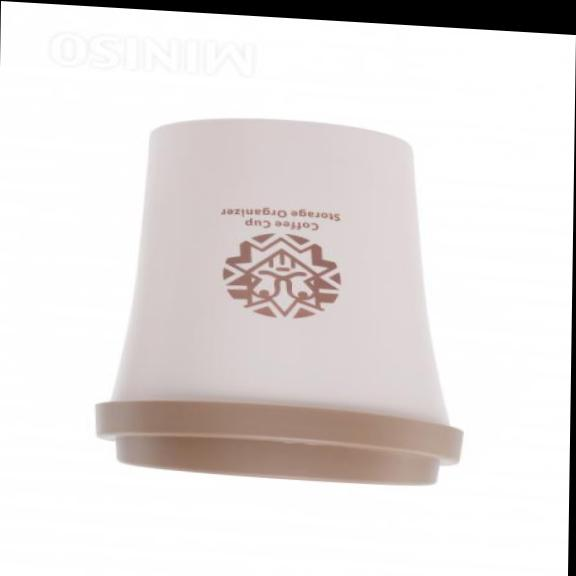Plastik: (97, 120, 460, 484)
